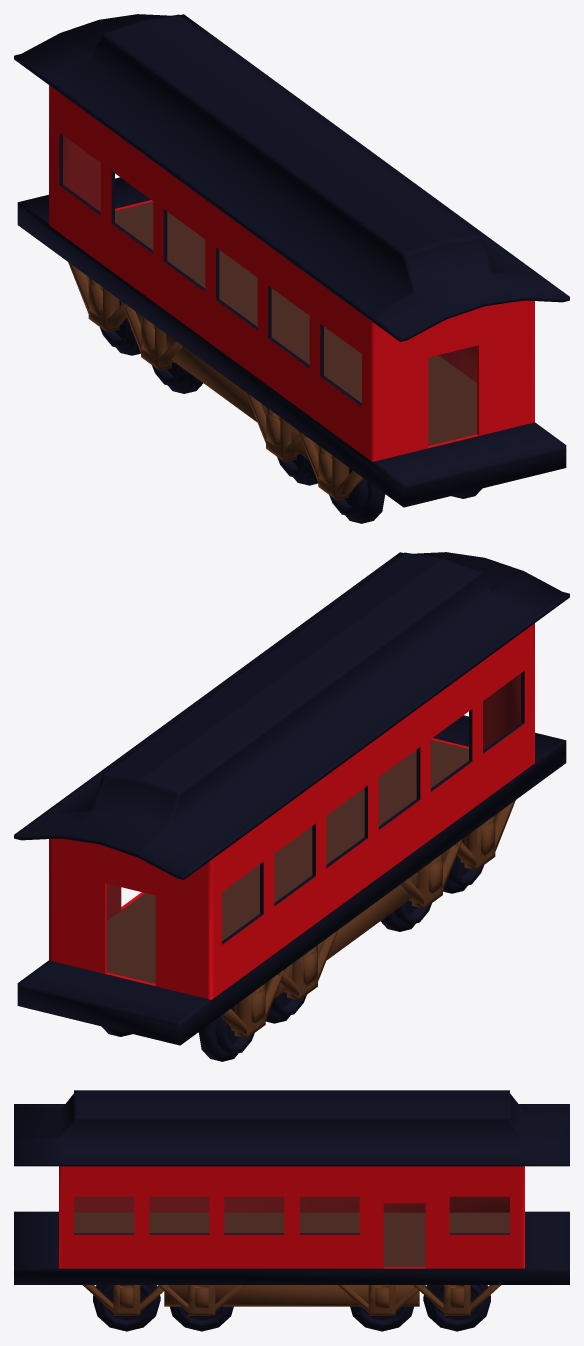
The model's file is Train.fbx.
3 renders of one model, top to bottom at view 1: azimuth 30°, elevation 25°; view 2: azimuth 150°, elevation 25°; view 3: azimuth 270°, elevation 25°, orthographic. The views are drawn at different scales.
Parts seen in each view (by area): view 1: Cabin, Frame, Bars, Strut.003, Strut, Strut.001, Strut.002, Wheel.003, Wheel.001, Wheel, Wheel.002; view 2: Cabin, Frame, Bars, Strut, Strut.003, Strut.002, Strut.001, Wheel, Wheel.002, Wheel.003, Wheel.001; view 3: Cabin, Frame, Bars, Wheel.004, Wheel.007, Strut.004, Strut.007, Strut.006, Strut.005, Wheel.005, Wheel.006.
Part boxes in pixels (x1=…): Cabin: x1=14, y1=14, x2=569, y2=488; Frame: x1=17, y1=206, x2=566, y2=507; Bars: x1=131, y1=311, x2=309, y2=460; Strut.003: x1=297, y1=430, x2=362, y2=500; Strut: x1=68, y1=262, x2=128, y2=332; Strut.001: x1=120, y1=300, x2=183, y2=370; Strut.002: x1=245, y1=392, x2=306, y2=462; Wheel.003: x1=329, y1=468, x2=385, y2=523; Wheel.001: x1=152, y1=362, x2=203, y2=393; Wheel: x1=99, y1=300, x2=140, y2=355; Wheel.002: x1=277, y1=454, x2=318, y2=485; Cabin: x1=14, y1=552, x2=569, y2=1026; Frame: x1=17, y1=744, x2=566, y2=1045; Bars: x1=274, y1=849, x2=452, y2=998; Strut: x1=221, y1=968, x2=286, y2=1038; Strut.003: x1=455, y1=800, x2=515, y2=870; Strut.002: x1=400, y1=838, x2=463, y2=908; Strut.001: x1=277, y1=930, x2=338, y2=1000; Wheel: x1=198, y1=1006, x2=254, y2=1061; Wheel.002: x1=380, y1=900, x2=431, y2=931; Wheel.003: x1=443, y1=838, x2=484, y2=893; Wheel.001: x1=265, y1=992, x2=306, y2=1023; Cabin: x1=14, y1=1090, x2=569, y2=1271; Frame: x1=14, y1=1271, x2=569, y2=1284; Bars: x1=164, y1=1285, x2=419, y2=1306; Wheel.004: x1=423, y1=1285, x2=490, y2=1331; Wheel.007: x1=93, y1=1285, x2=160, y2=1331; Strut.004: x1=413, y1=1285, x2=500, y2=1315; Strut.007: x1=83, y1=1285, x2=170, y2=1315; Strut.006: x1=158, y1=1285, x2=245, y2=1315; Strut.005: x1=338, y1=1285, x2=425, y2=1315; Wheel.005: x1=350, y1=1306, x2=413, y2=1331; Wheel.006: x1=170, y1=1306, x2=233, y2=1331.
Bounding box in the file's own units: 940 × 1544 × 3700.
